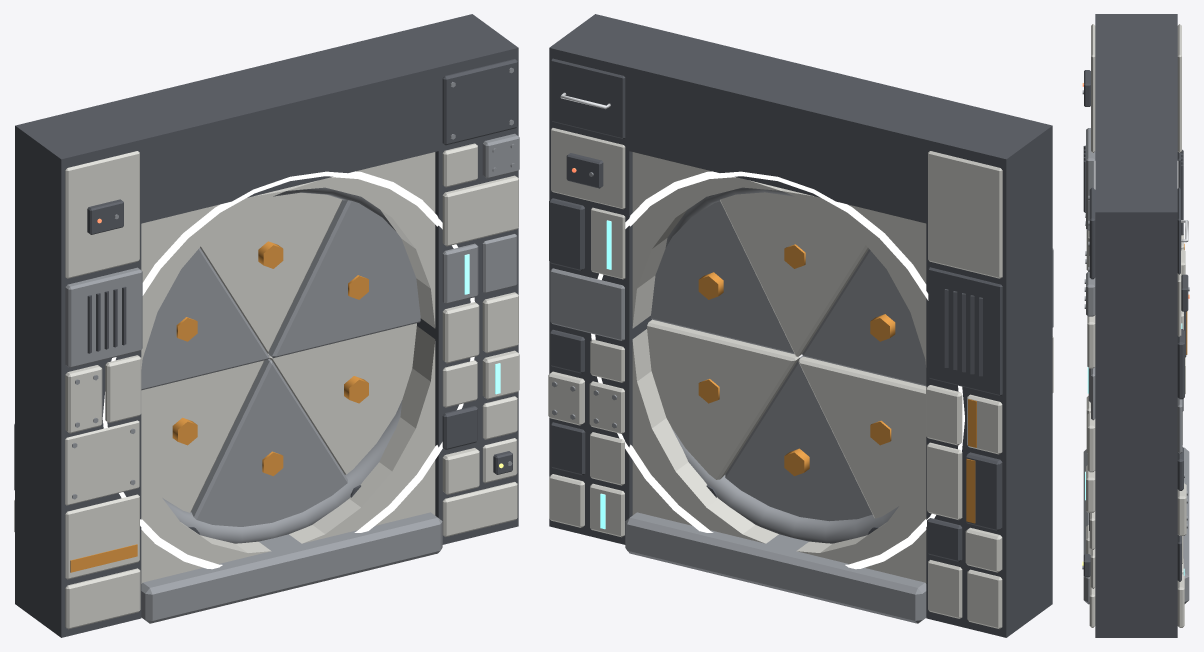
The model's file is door_iris.glb.
3 views of the same model, side by side, from view 1: azimuth 30°, elevation 25°; view 2: azimuth 150°, elevation 25°; view 3: azimuth 270°, elevation 25° (orthographic). The views are drawn at different scales.
Visible parts, largest first — view 1: frame, blade4, blade0, blade5, blade1, blade3, blade2; view 2: frame, blade5, blade1, blade4, blade0, blade3, blade2; view 3: frame.
Boxes of the visible parts, box(x1,y1,x2,y2) form: frame: box(14, 14, 519, 637); blade4: box(188, 358, 347, 534); blade0: box(268, 200, 420, 358); blade5: box(268, 323, 416, 497); blade1: box(200, 192, 358, 353); blade3: box(141, 360, 264, 512); blade2: box(141, 248, 269, 390); frame: box(548, 14, 1053, 637); blade5: box(647, 319, 799, 497); blade1: box(709, 192, 868, 356); blade4: box(725, 355, 879, 534); blade0: box(651, 201, 794, 354); blade3: box(798, 356, 926, 518); blade2: box(802, 249, 926, 386); frame: box(1082, 14, 1189, 637).
Size of the model in its own units: 4 by 4.03 by 0.9143.
